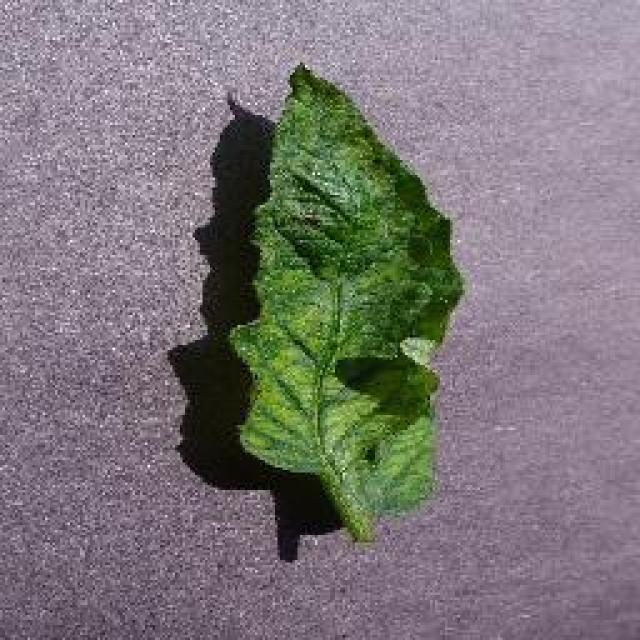Tomato spider mites leaf: (229, 64, 461, 518)
